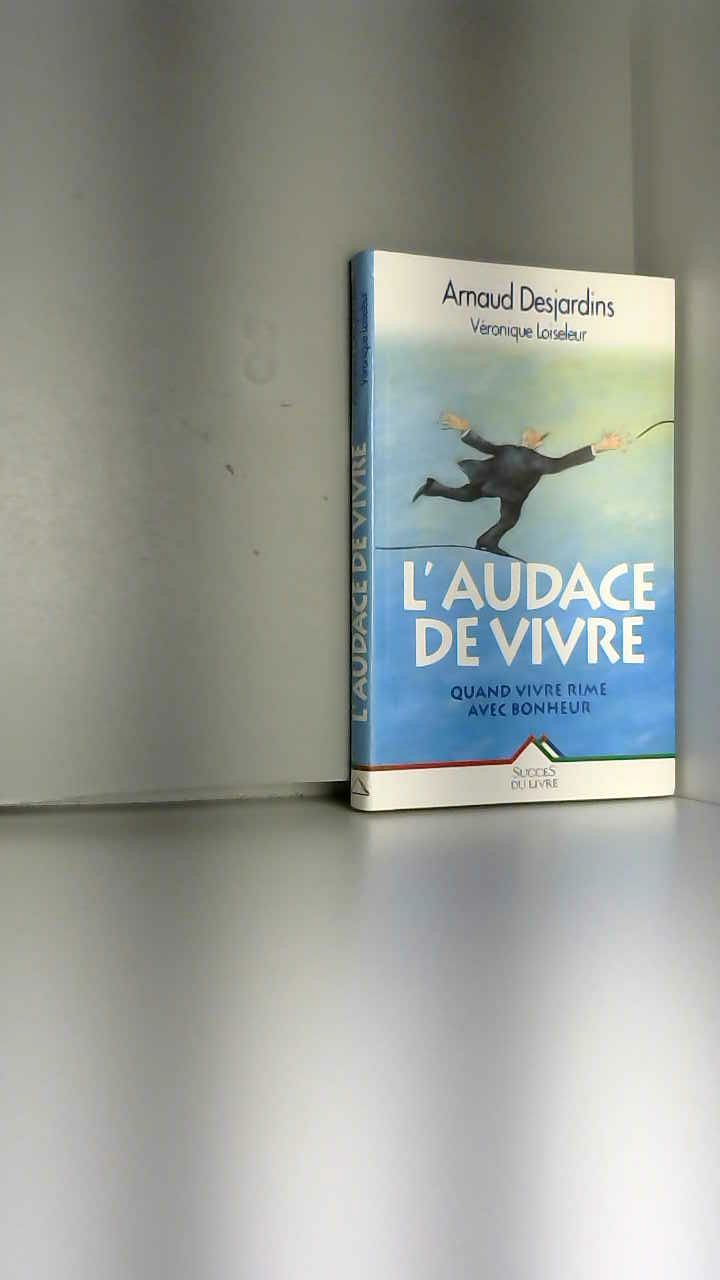book: (320, 220, 720, 837)
